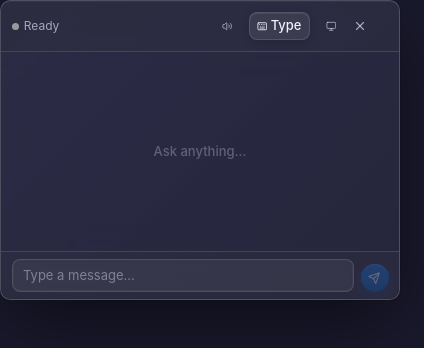
Scenario: CompactChat › cycles mode on toggle click
// Click to cycle to PTT
Click the button with aria-label "Switch mode": point(279, 26) [249,12,310,40]
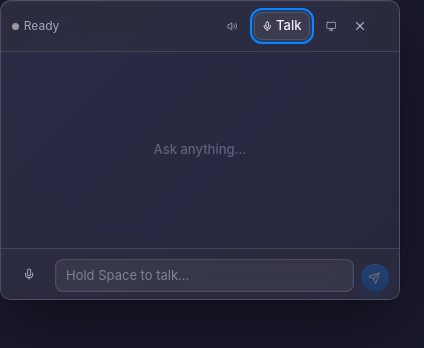
Now the button with aria-label "Switch mode" reads "Talk"
// Click to cycle to VAD
Click the button with aria-label "Switch mode": point(282, 26) [254,12,310,40]
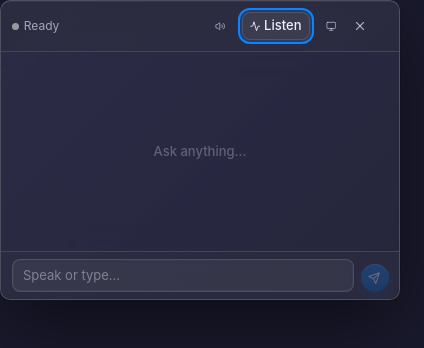
Now the button with aria-label "Switch mode" reads "Listen"
// Click to cycle back to Type
Click the button with aria-label "Switch mode": point(276, 26) [242,12,310,40]
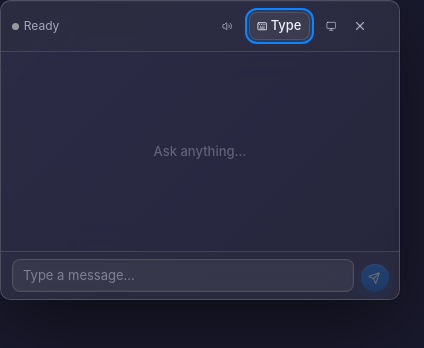
Now the button with aria-label "Switch mode" reads "Type", box [249,12,310,40]
